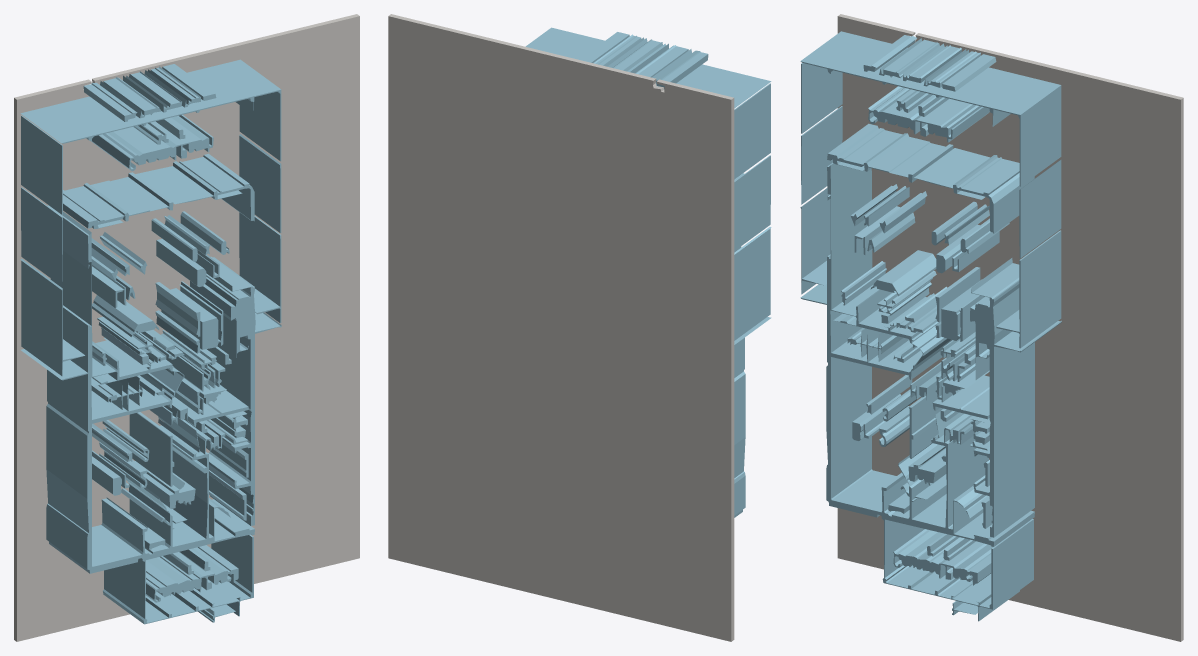
The picture shows the model from 3 angles, left to right: view 1: azimuth 30°, elevation 25°; view 2: azimuth 150°, elevation 25°; view 3: azimuth 330°, elevation 25°; orthographic projection.
Parts seen in each view (by area): view 1: world; view 2: world; view 3: world.
Part boxes in pixels (bbox=[...]): world: bbox=[14, 14, 359, 641]; world: bbox=[388, 14, 771, 641]; world: bbox=[800, 14, 1183, 641].
Bounding box in the file's own units: 10.23 × 15.45 × 2.26.
